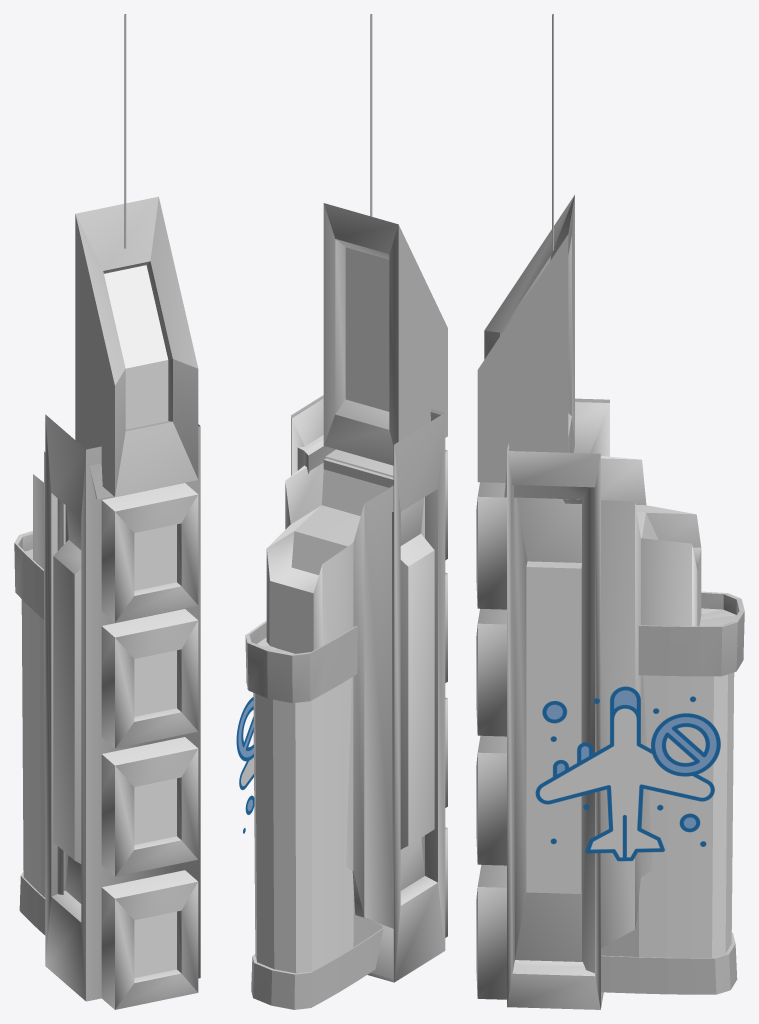
Rendered from fifth building.glb.
The picture shows the model from 3 angles, left to right: view 1: azimuth 30°, elevation 25°; view 2: azimuth 150°, elevation 25°; view 3: azimuth 270°, elevation 25°; orthographic projection. The views are drawn at different scales.
Parts seen in each view (by area): view 1: Downtown Center City.1299; view 2: Downtown Center City.1299, iconfinder_41_infrared_travel_banned_not_allow_airoplan_6088; view 3: Downtown Center City.1299, iconfinder_41_infrared_travel_banned_not_allow_airoplan_6088.
Part boxes in pixels (left/top/right/bottom): Downtown Center City.1299: left=14, top=14, right=200, bottom=1009; Downtown Center City.1299: left=245, top=14, right=447, bottom=1009; iconfinder_41_infrared_travel_banned_not_allow_airoplan_6088: left=236, top=688, right=254, bottom=833; Downtown Center City.1299: left=476, top=14, right=744, bottom=1009; iconfinder_41_infrared_travel_banned_not_allow_airoplan_6088: left=535, top=686, right=720, bottom=861.
Bounding box in the file's own units: 2.2 × 16.75 × 4.22.
3 materials, 1 textured.
